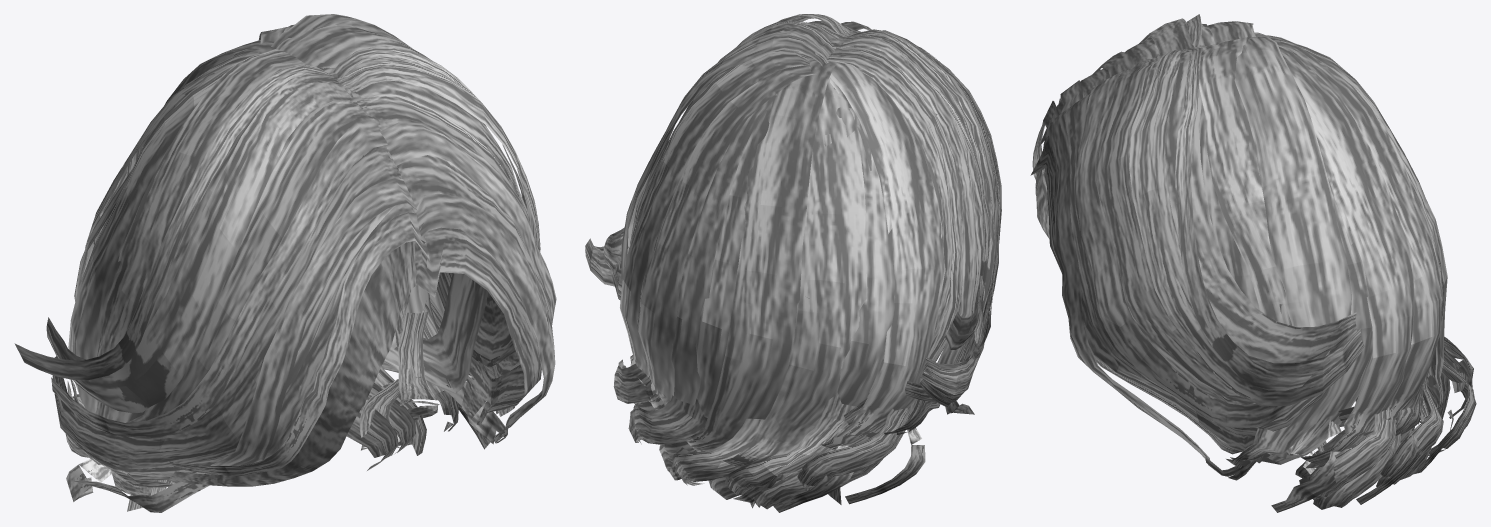
Rendered from daz_hair_wavy_bob.glb.
3 renders of one model, left to right at view 1: azimuth 30°, elevation 25°; view 2: azimuth 150°, elevation 25°; view 3: azimuth 270°, elevation 25°, orthographic. The views are drawn at different scales.
Parts seen in each view (by area): view 1: daz_hair_wavy_bob; view 2: daz_hair_wavy_bob; view 3: daz_hair_wavy_bob.
Boxes of the visible parts, x1=… form: daz_hair_wavy_bob: x1=14, y1=14, x2=556, y2=512; daz_hair_wavy_bob: x1=585, y1=14, x2=1001, y2=512; daz_hair_wavy_bob: x1=1030, y1=14, x2=1476, y2=512.
Bounding box in the file's own units: 0.2517 × 0.2485 × 0.2373.
1 material, 1 textured.
